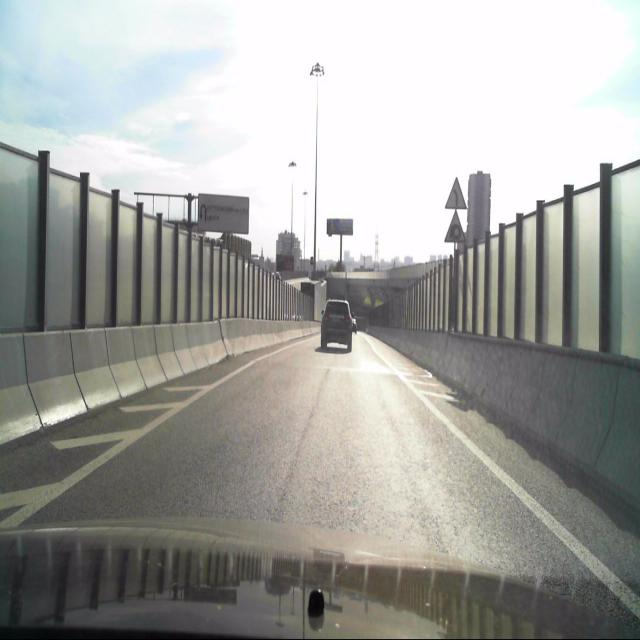road sign: (443, 206, 466, 243), (442, 177, 468, 209)
